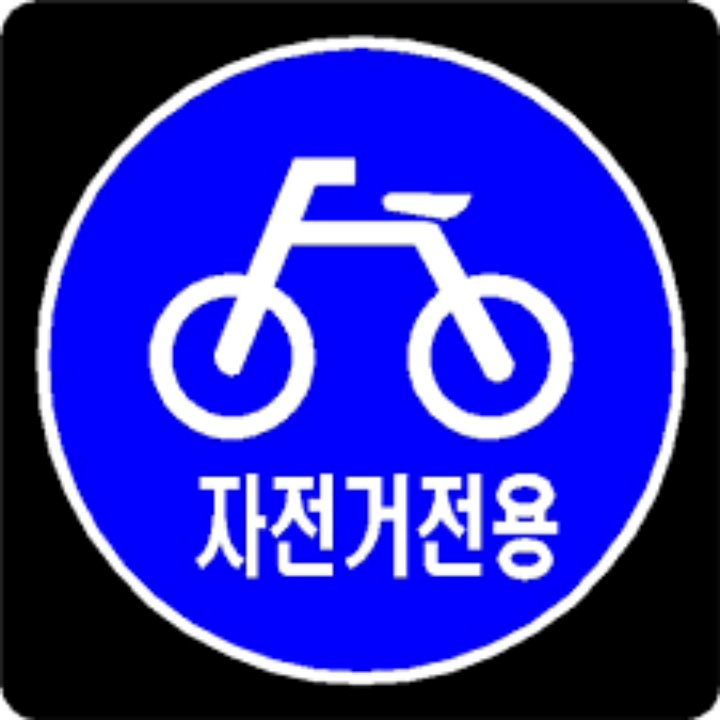bicycle: (144, 154, 574, 442)
